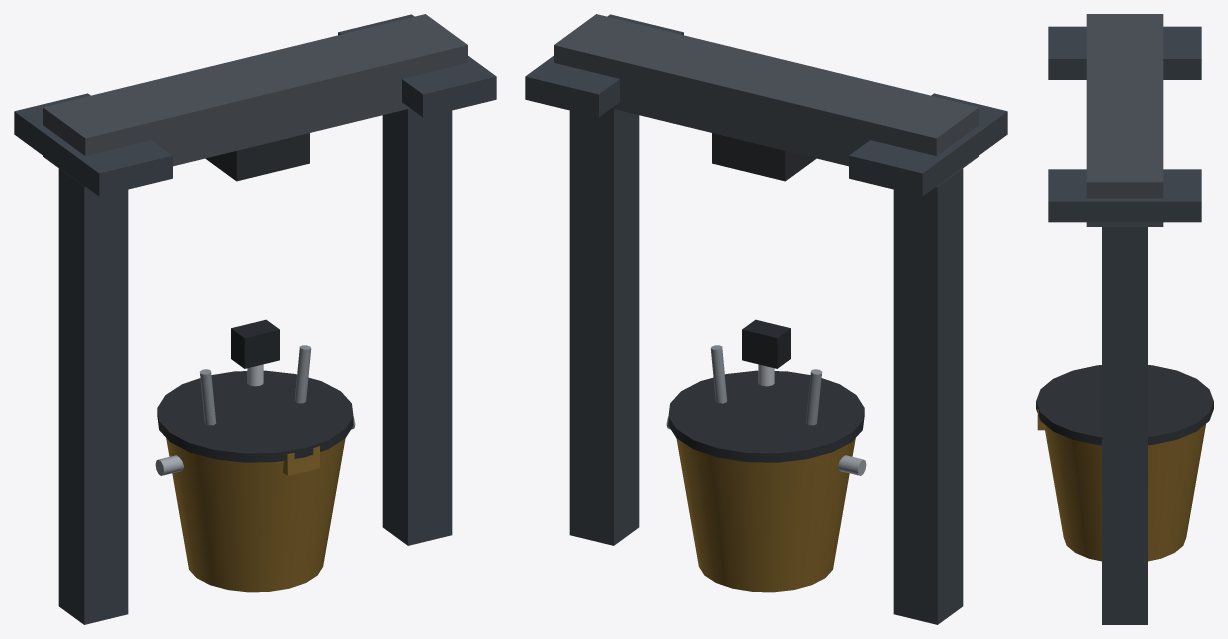
The model's file is equipment--ladleCrane.glb.
3 views of the same model, side by side, from view 1: azimuth 30°, elevation 25°; view 2: azimuth 150°, elevation 25°; view 3: azimuth 270°, elevation 25° (orthographic). The views are drawn at different scales.
Parts seen in each view (by area): view 1: ladleCrane:shell, ladleBody, bridge, hookBlock, trolley, pourLip; view 2: ladleCrane:shell, ladleBody, bridge, hookBlock, trolley; view 3: ladleCrane:shell, ladleBody, bridge.
Boxes of the visible parts, x1,y1,x2,y2 form: ladleCrane:shell: (14,14,496,624); ladleBody: (157,370,353,592); bridge: (43,14,467,187); hookBlock: (199,319,311,425); trolley: (205,133,309,181); pourLip: (283,446,319,475); ladleCrane:shell: (525,14,1007,624); ladleBody: (668,370,864,592); bridge: (554,14,978,187); hookBlock: (710,319,822,425); trolley: (712,133,816,181); ladleCrane:shell: (1048,26,1201,624); ladleBody: (1036,365,1213,561); bridge: (1086,14,1163,226).
Size of the model in its own units: 2.7 by 3.21 by 1.16.
